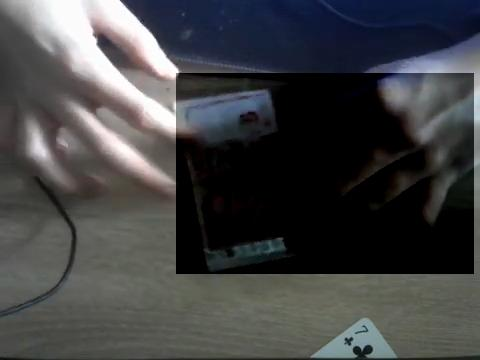5leva: (176, 73, 474, 274), (180, 90, 379, 273)
